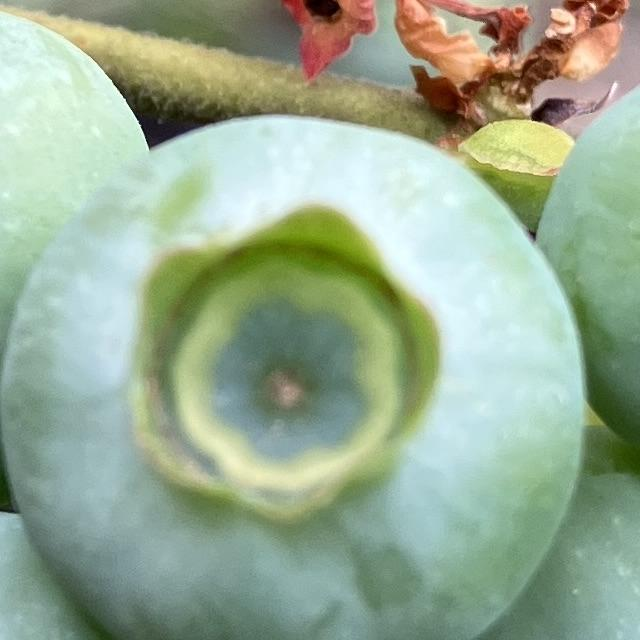Blueberries: (0, 108, 588, 640), (0, 0, 147, 523)
